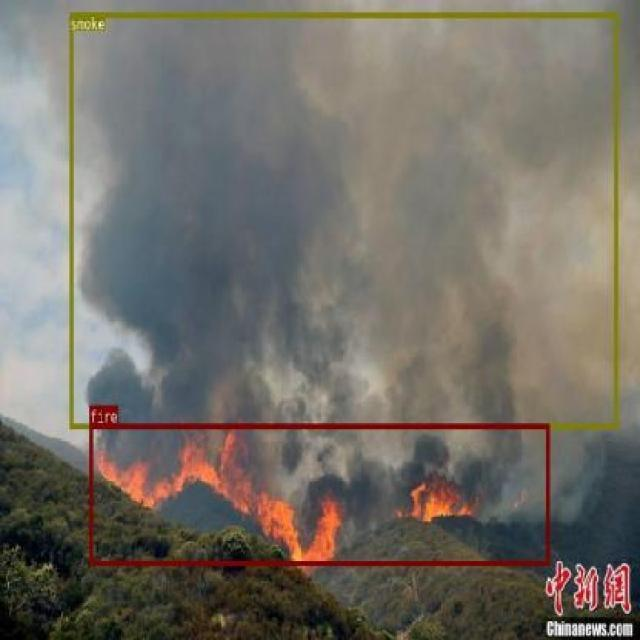Fire: (89, 423, 548, 565)
Smoke: (69, 12, 617, 428)
